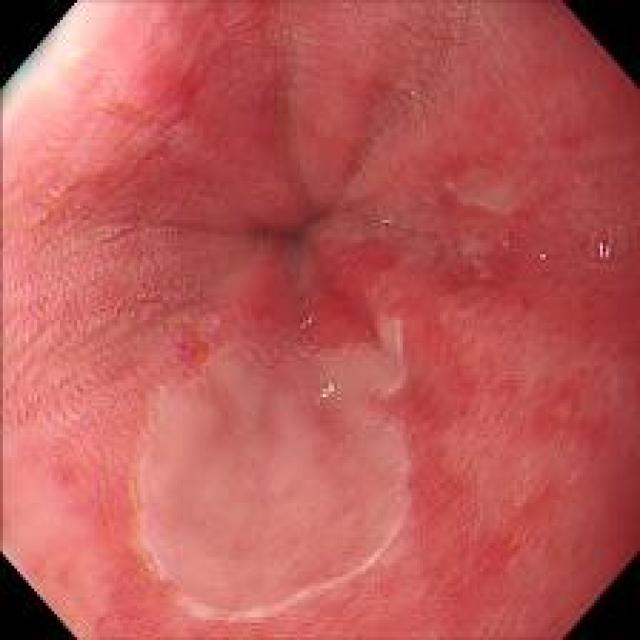blur: (54, 131, 524, 632), (10, 5, 141, 152)
specularity: (591, 236, 621, 271), (312, 375, 345, 405), (381, 218, 391, 228), (538, 251, 546, 262)
